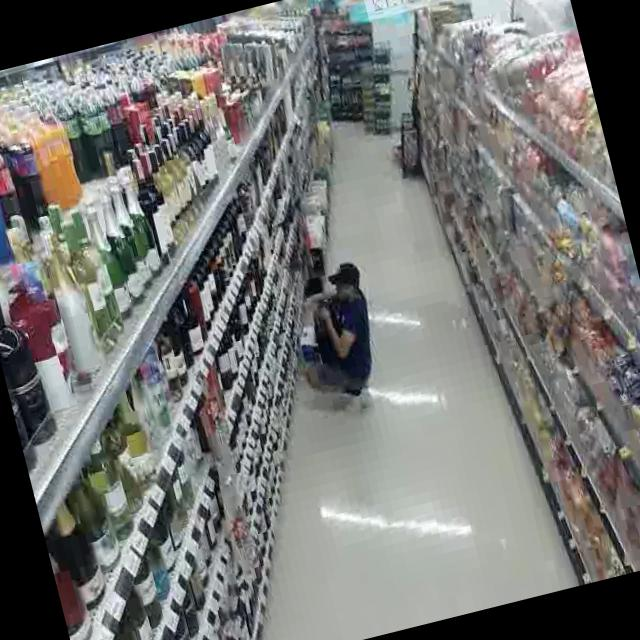shoplifting: (264, 247, 403, 432)
